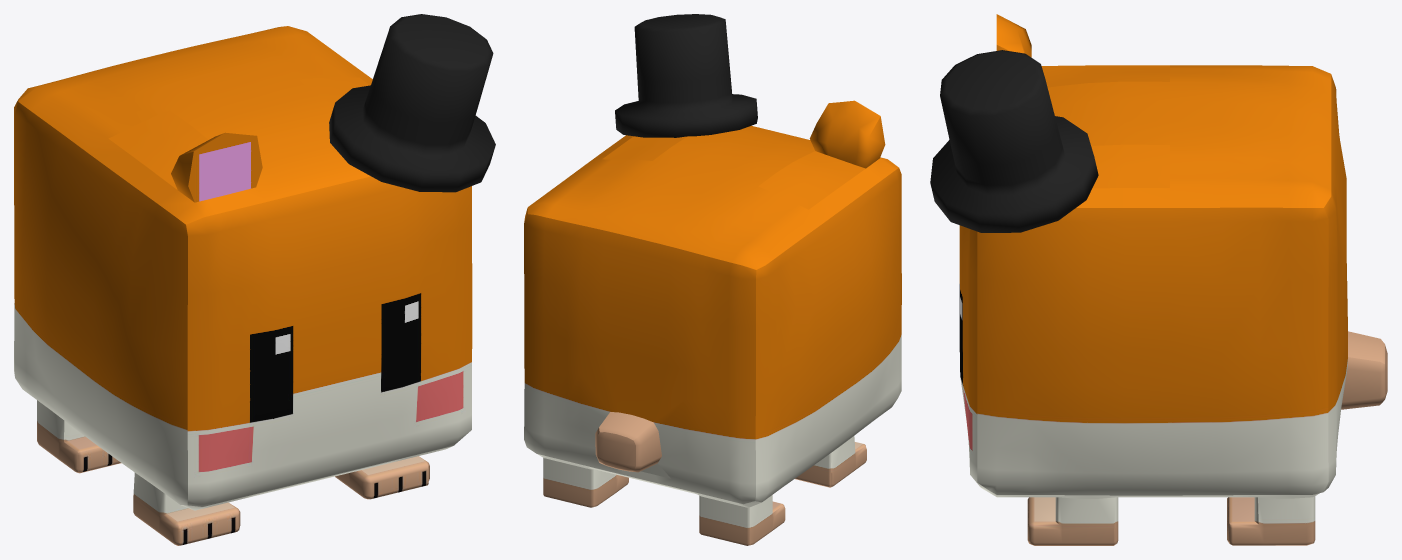
Rendered from SideTopHatEat.fbx.
3 views of the same model, side by side, from view 1: azimuth 30°, elevation 25°; view 2: azimuth 150°, elevation 25°; view 3: azimuth 270°, elevation 25° (orthographic). The views are drawn at different scales.
Parts seen in each view (by area): view 1: pCube11; view 2: pCube11; view 3: pCube11.
Part boxes in pixels (bbox=[...]): pCube11: bbox=[14, 14, 495, 545]; pCube11: bbox=[524, 14, 901, 545]; pCube11: bbox=[930, 14, 1387, 545].
Size of the model in its own units: 4.39 by 5.88 by 5.14.
